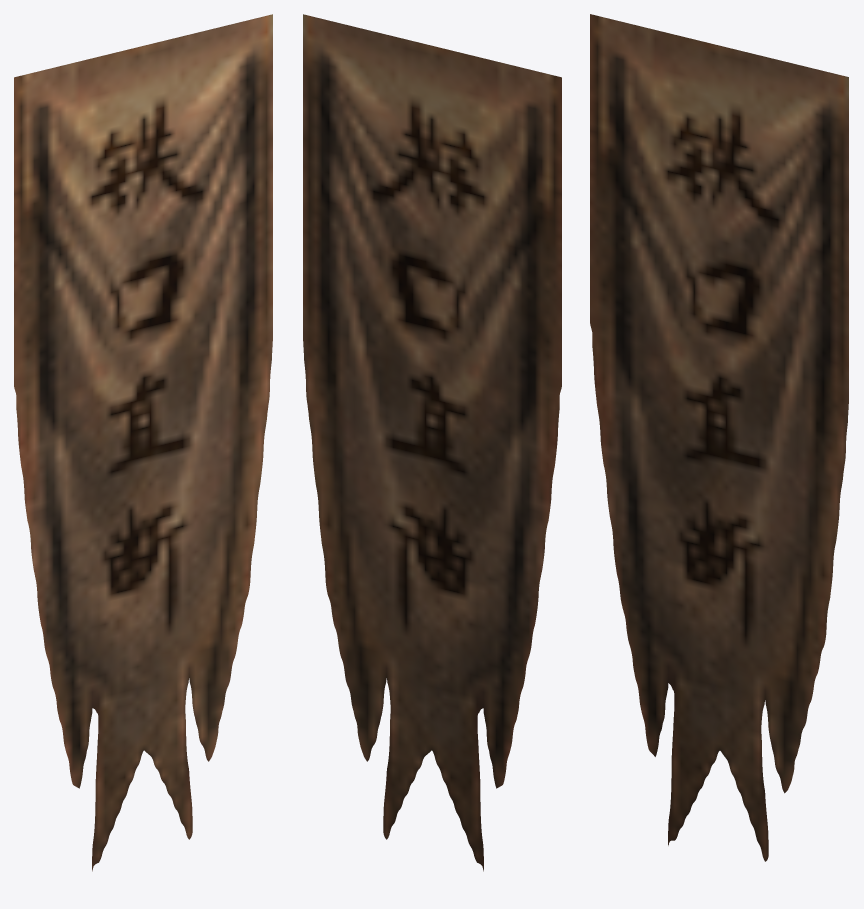
Rendered from zc_jiangxia_suanmingqizi.FBX.
3 renders of one model, left to right at view 1: azimuth 30°, elevation 25°; view 2: azimuth 150°, elevation 25°; view 3: azimuth 330°, elevation 25°, orthographic.
Visible parts, largest first — view 1: zc_jiangxia_suanmingqizi; view 2: zc_jiangxia_suanmingqizi; view 3: zc_jiangxia_suanmingqizi.
Boxes of the visible parts, <box> form: zc_jiangxia_suanmingqizi: <box>14,14,272,871</box>; zc_jiangxia_suanmingqizi: <box>303,14,561,871</box>; zc_jiangxia_suanmingqizi: <box>590,14,848,861</box>.
Size of the model in its own units: 1.72 by 5.19 by 2.09e-07.
